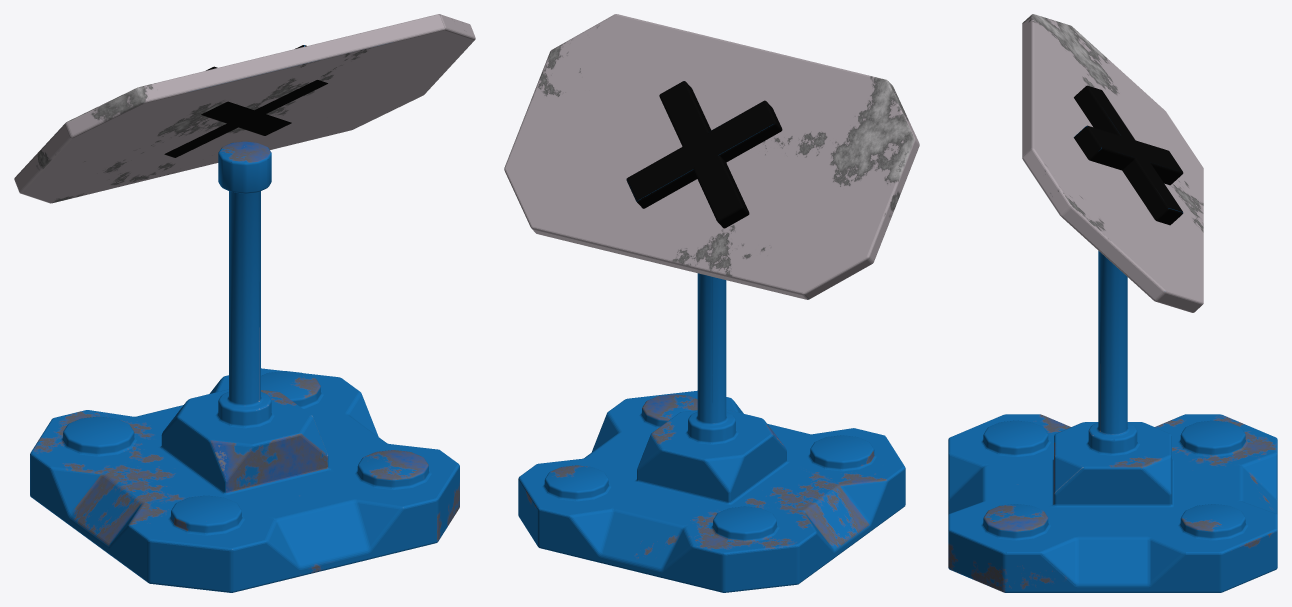
File: Flag.fbx
The picture shows the model from 3 angles, left to right: view 1: azimuth 30°, elevation 25°; view 2: azimuth 150°, elevation 25°; view 3: azimuth 270°, elevation 25°; orthographic projection. The views are drawn at different scales.
Parts seen in each view (by area): view 1: Cube.002; view 2: Cube.002; view 3: Cube.002.
Part boxes in pixels (<box>): Cube.002: <box>14,14,475,592</box>; Cube.002: <box>504,14,919,592</box>; Cube.002: <box>948,14,1277,592</box>.
Size of the model in its own units: 58.15 by 66.34 by 44.74.
